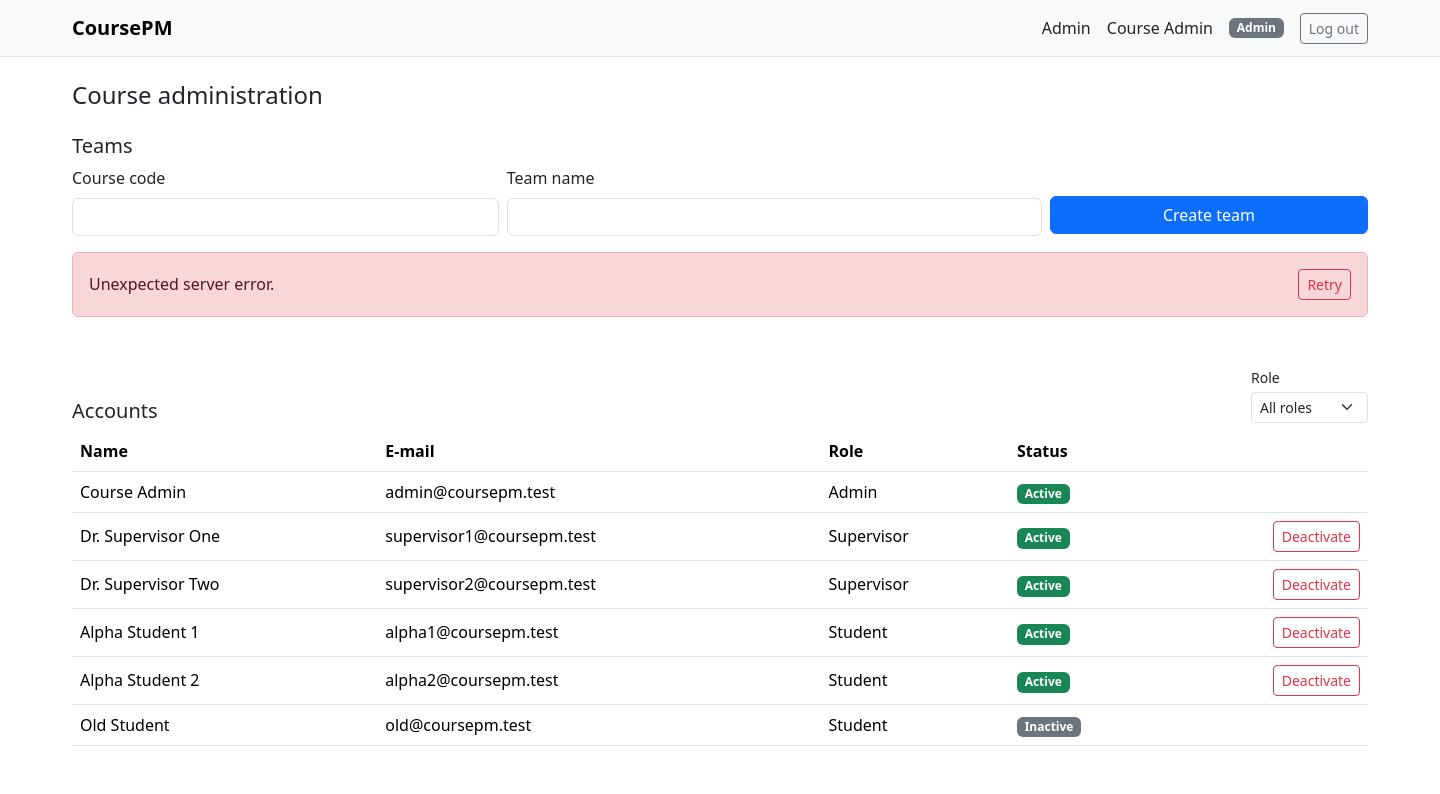
TEST-UI-09 (AC-09-11): Teams section › shows the error state with Retry, which loads again
This screenshot has width=1440, height=794.
Expected: the message shows "Unexpected server error.", [89, 273, 274, 295]
Click the button "Retry" at (1325, 284), box [1298, 269, 1351, 300]
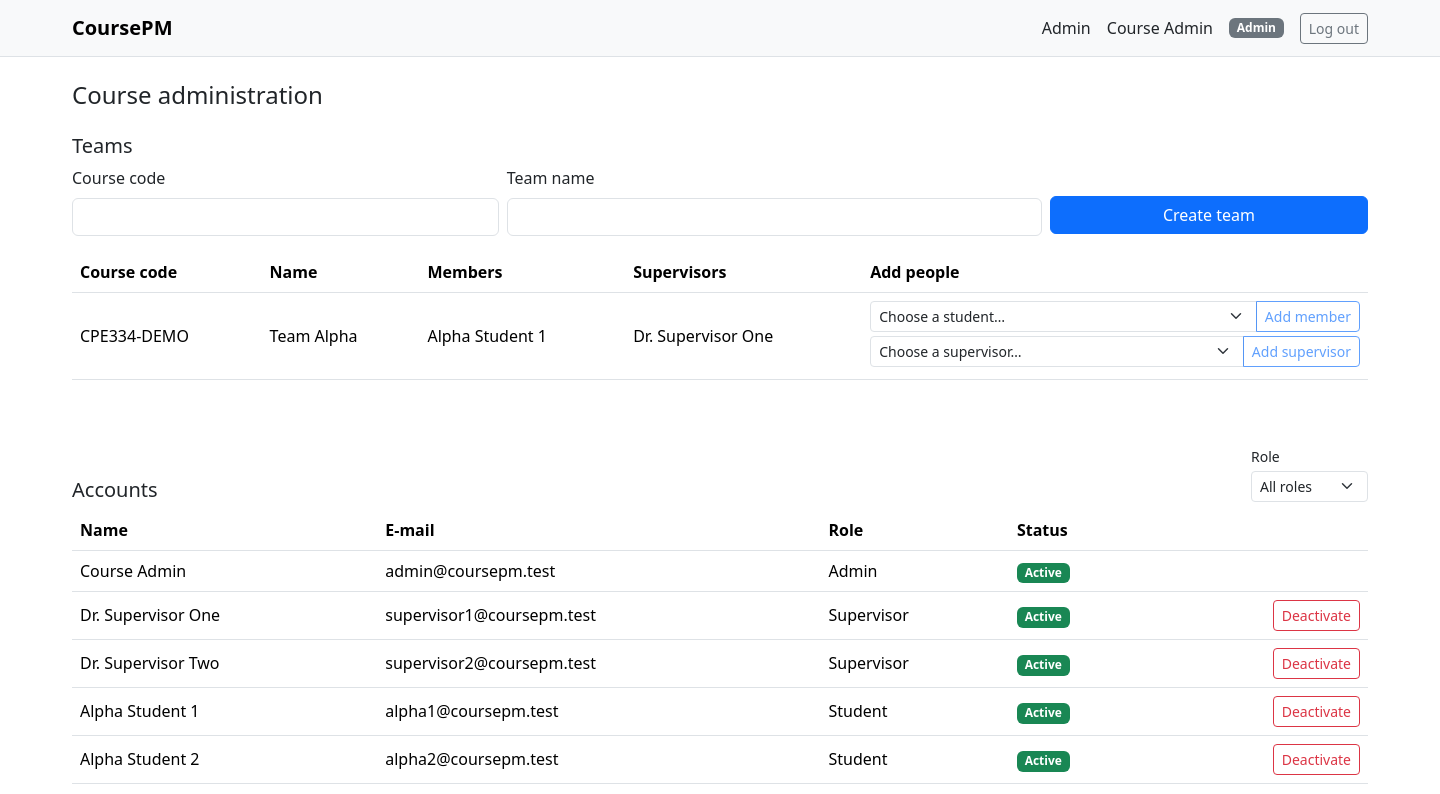
Expected: the text "Team Alpha" is shown, [262, 292, 419, 379]
